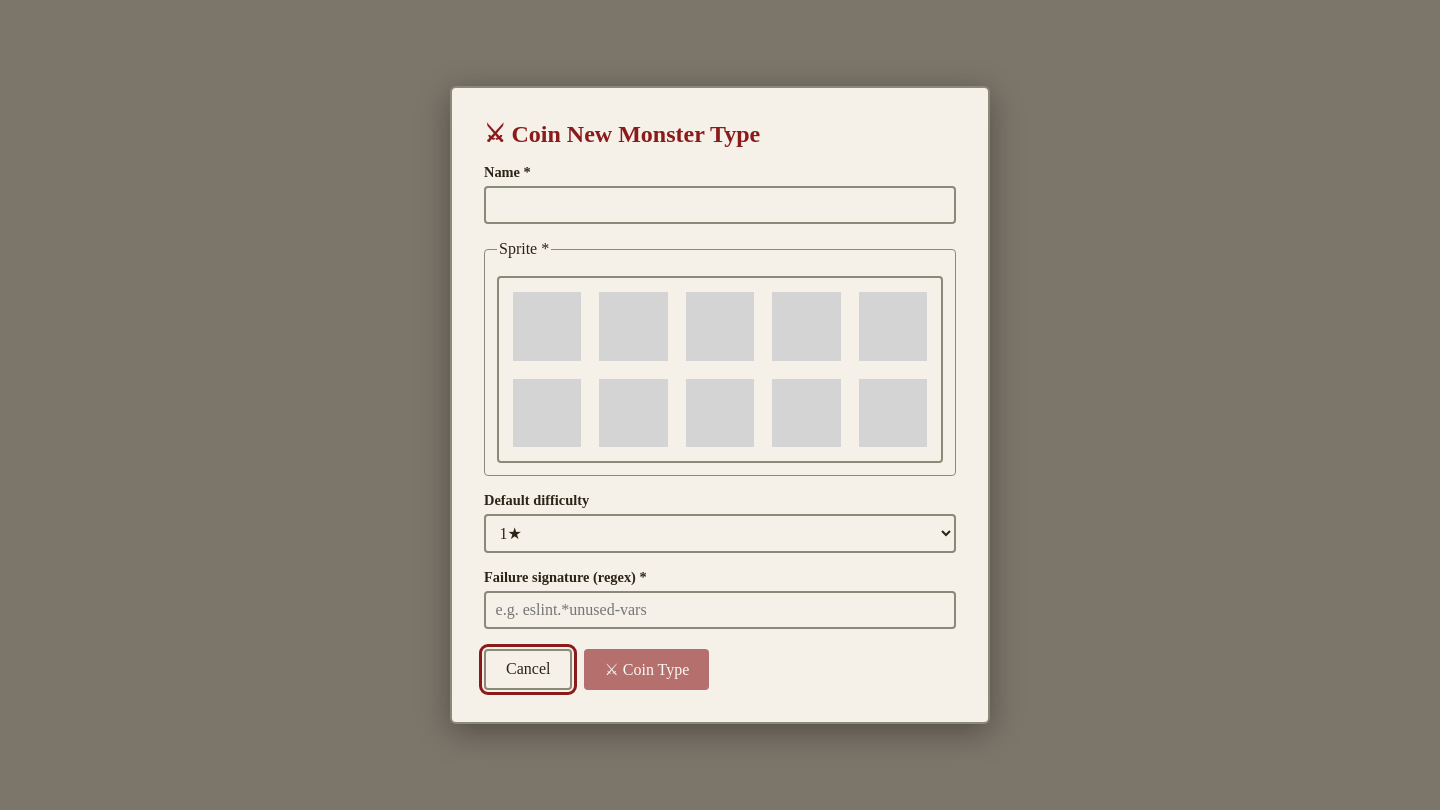
Test: CoinMonsterTypeModal — invalid regex inline error › shows inline error when failure signature is an invalid regex
Type "***" into the field labelled "Failure signature (regex) *" at (720, 610), box [484,591,956,629]
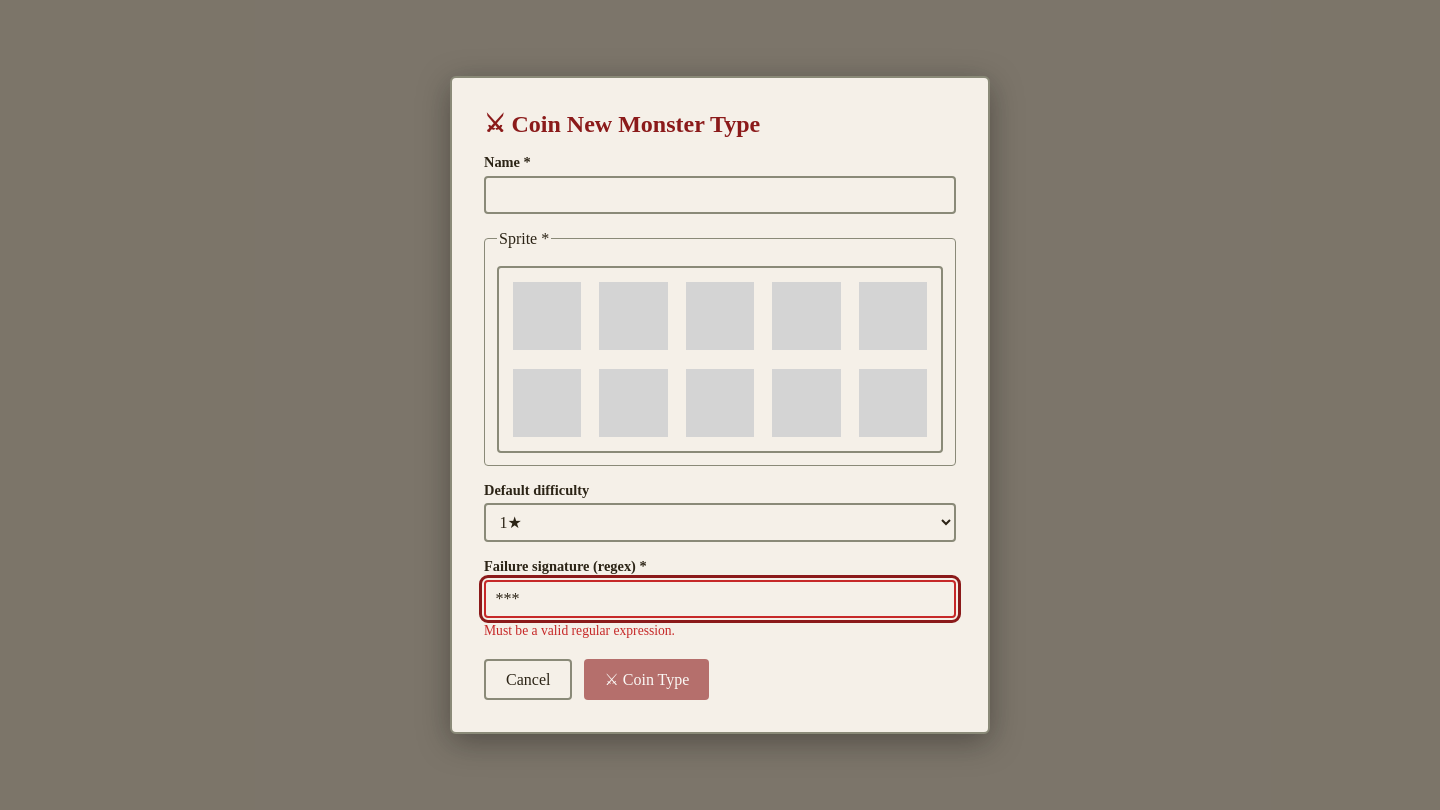
Expected: the text "Must be a valid regular expression." is shown, [484,623,675,638]
